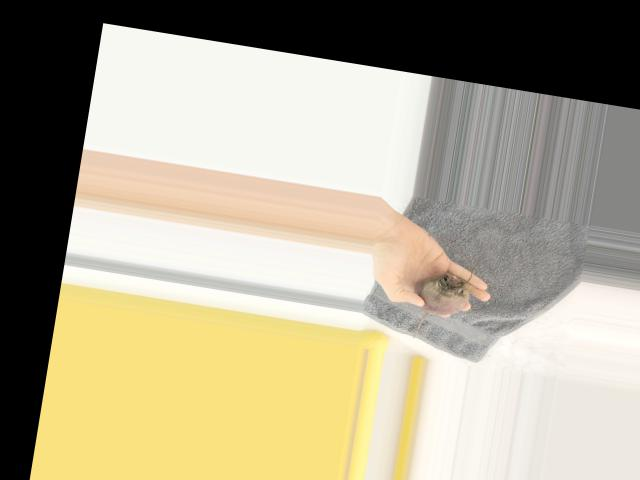beet: (406, 267, 472, 345)
